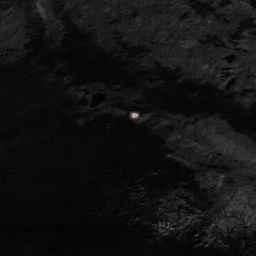Target: (129, 111, 139, 117)
